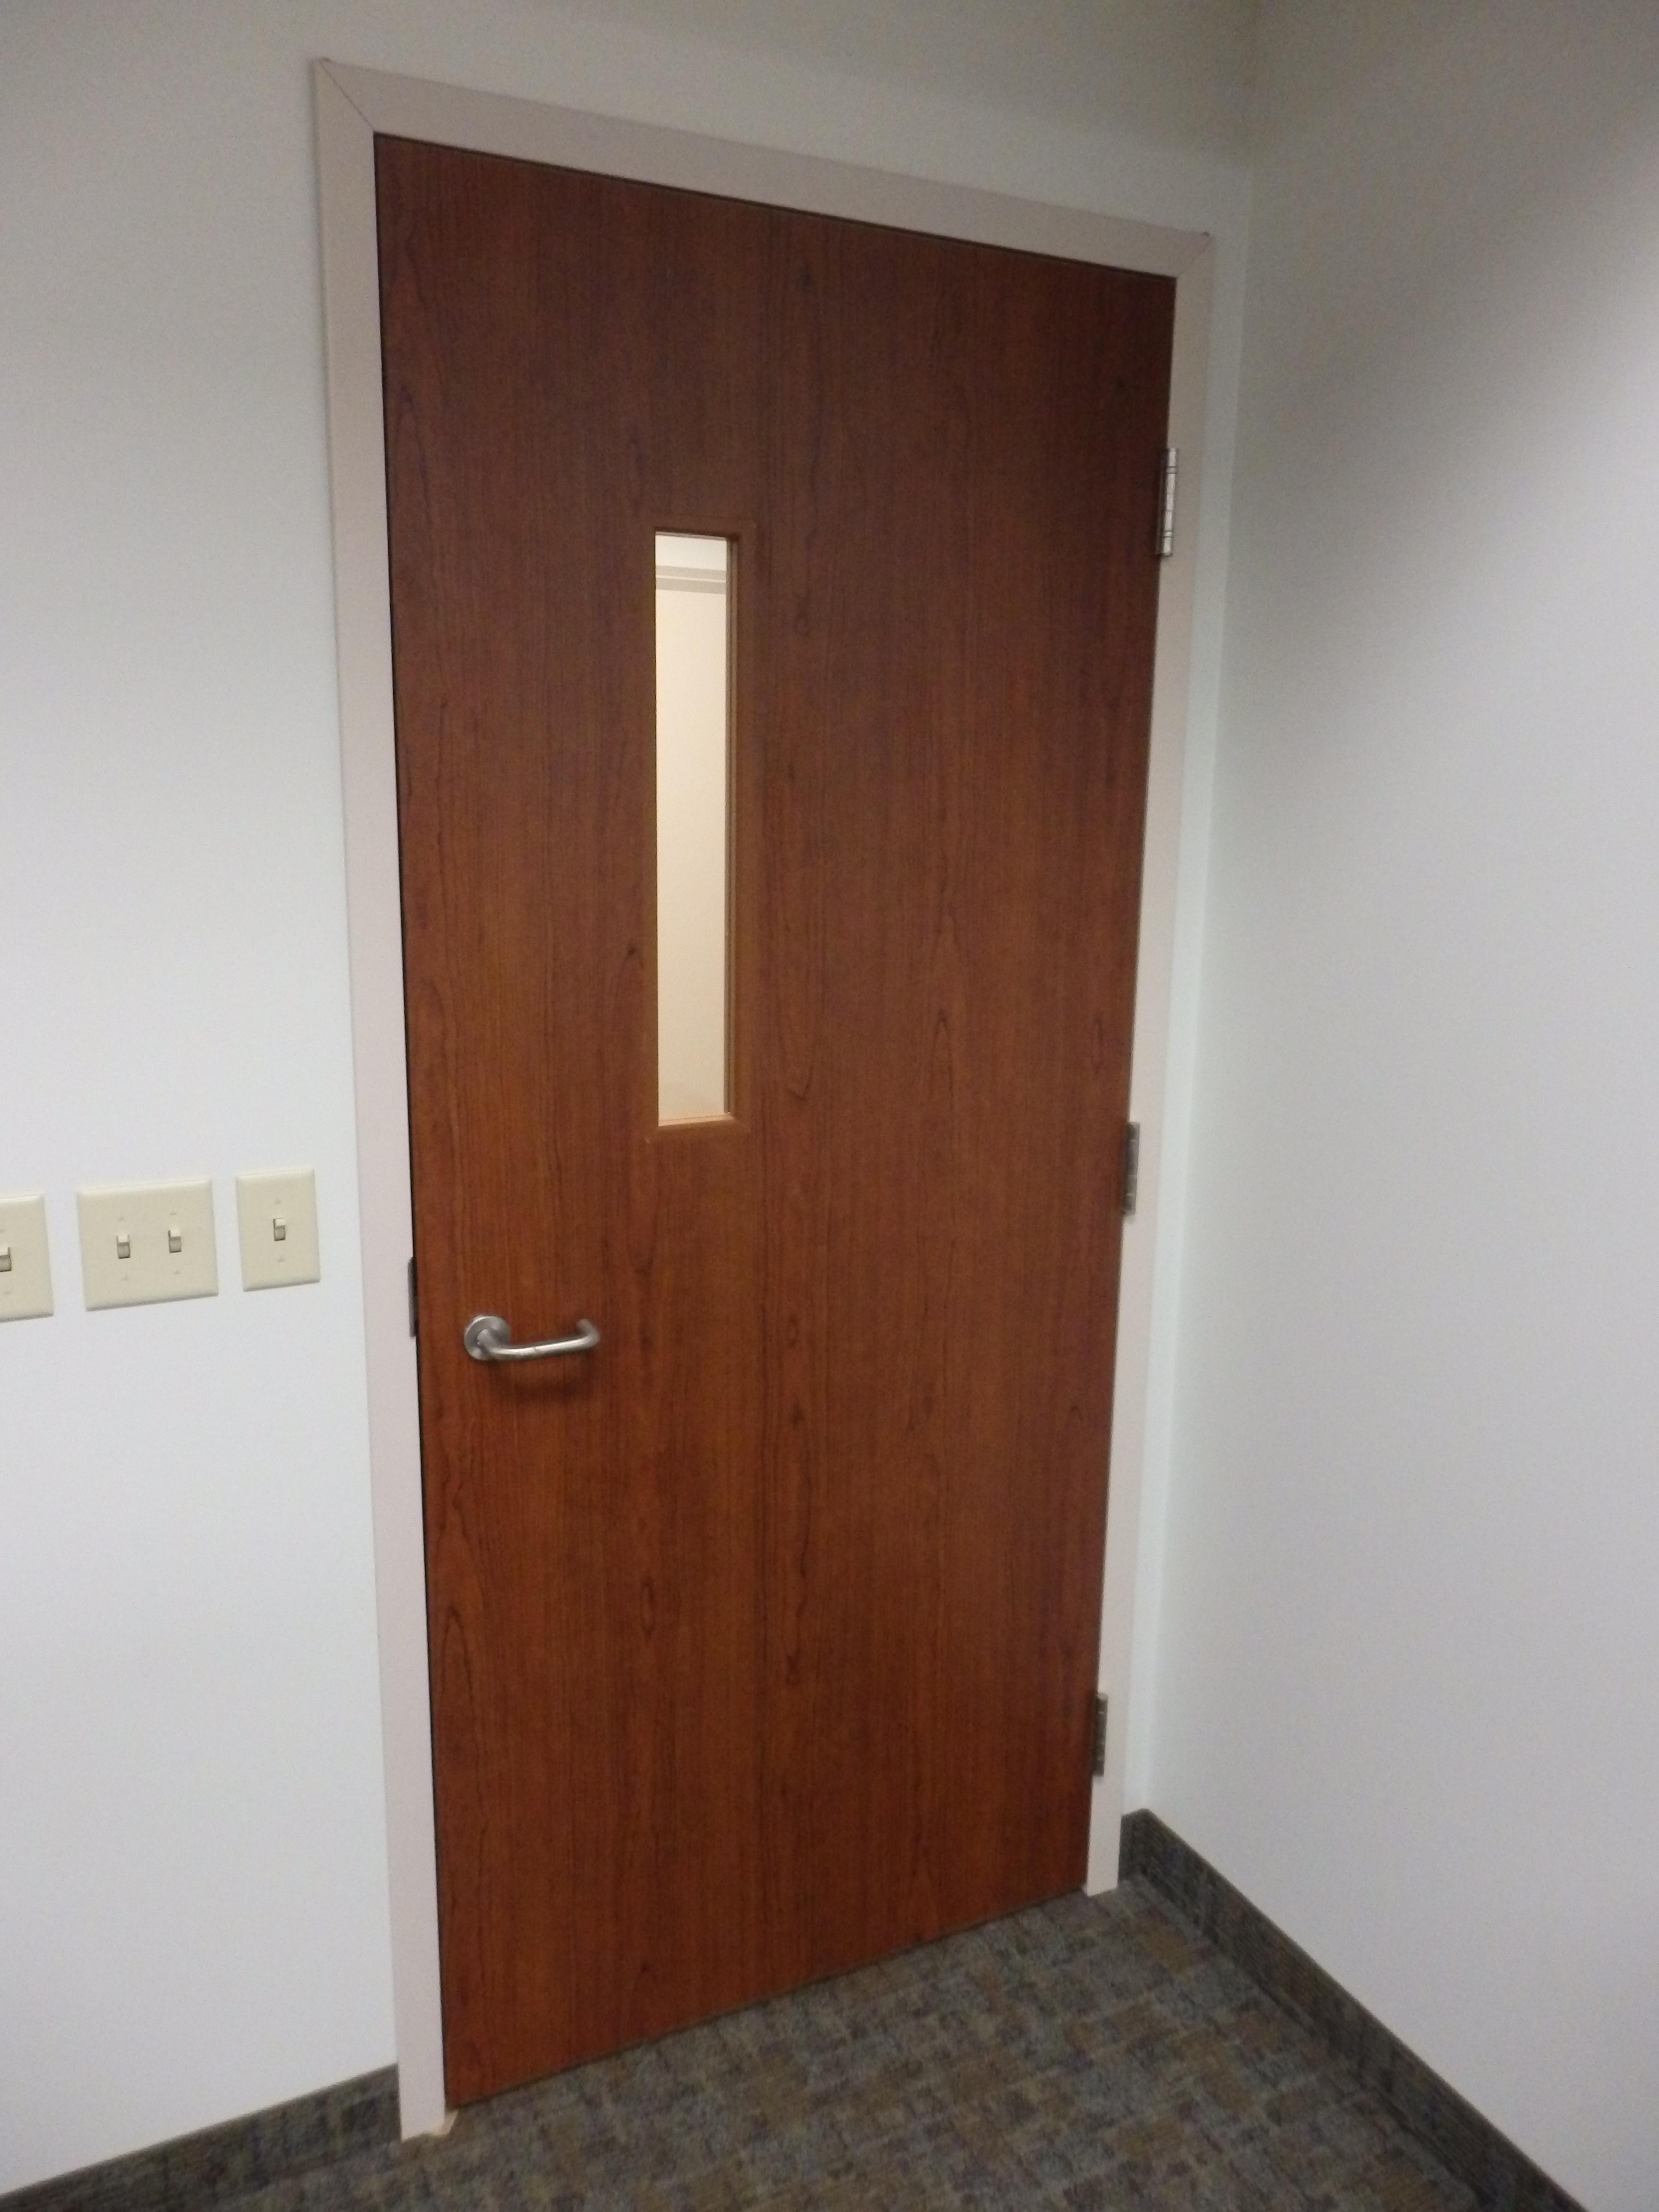door: (317, 61, 1216, 2141)
